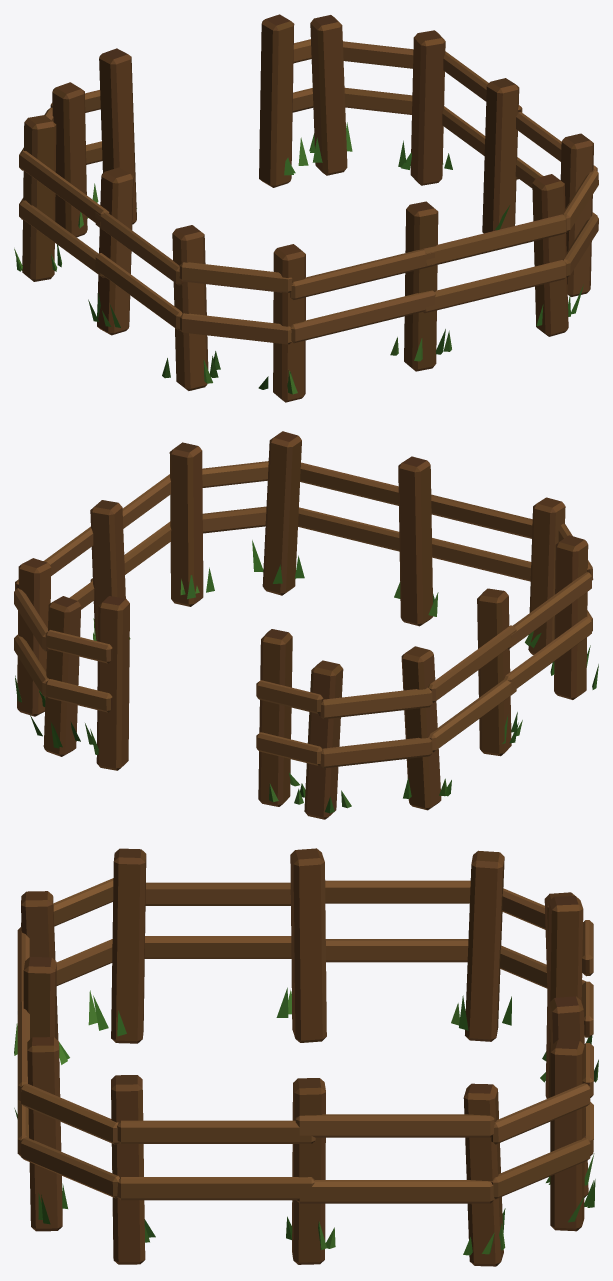
File: small-storage.glb
3 views of the same model, one above another, from view 1: azimuth 30°, elevation 25°; view 2: azimuth 150°, elevation 25°; view 3: azimuth 270°, elevation 25° (orthographic). The views are drawn at different scales.
Parts seen in each view (by area): view 1: TownToonSmallStorage; view 2: TownToonSmallStorage; view 3: TownToonSmallStorage.
Part boxes in pixels (box(x1,y1,x2,y2)): TownToonSmallStorage: box(14, 14, 598, 402); TownToonSmallStorage: box(14, 431, 598, 819); TownToonSmallStorage: box(14, 848, 598, 1266).
Size of the model in its own units: 2.97 by 1.12 by 2.95.
